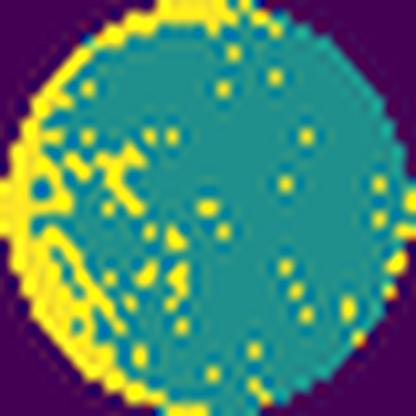Edge-Loc: (0, 0, 239, 416)
